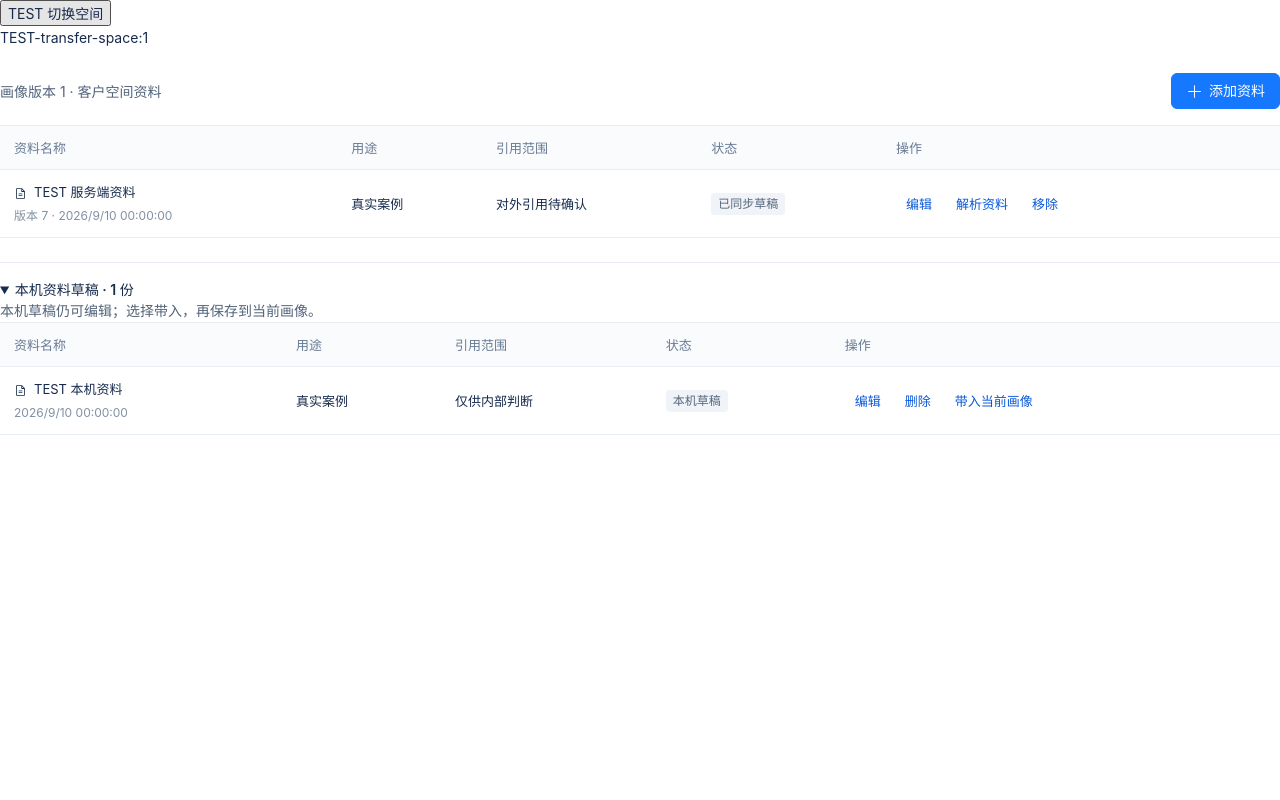
已存在的目标资料带入后取消，服务端内容和引用范围保持原样
Click the button "带入当前画像" at (994, 401), box [945, 383, 1043, 419]
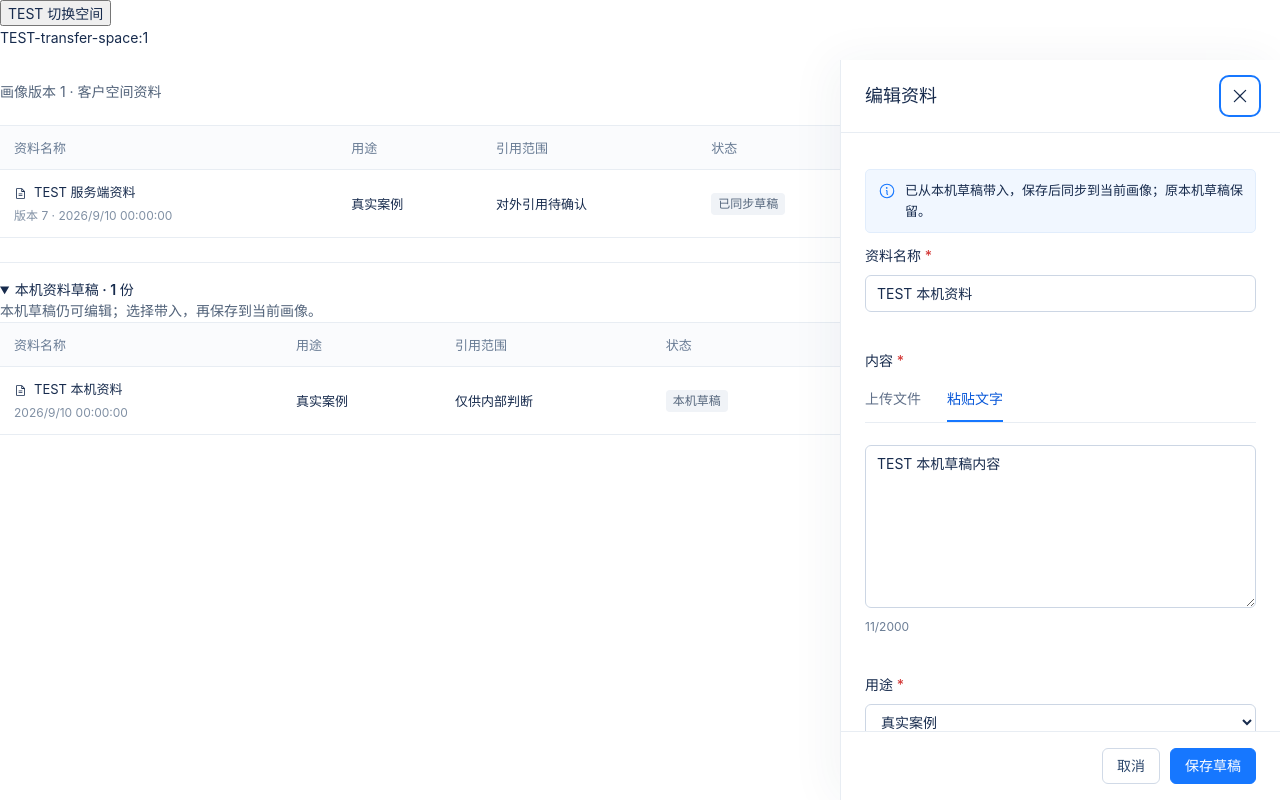
expect the text box named "资料内容" holds "TEST 本机草稿内容": met, box [865, 445, 1256, 608]
expect the text "已从本机草稿带入，保存后同步到当前画像；原本机草稿保留。" is shown: met, box [905, 180, 1243, 222]
Click the button "取消" at (1131, 766), box [1102, 748, 1160, 784]
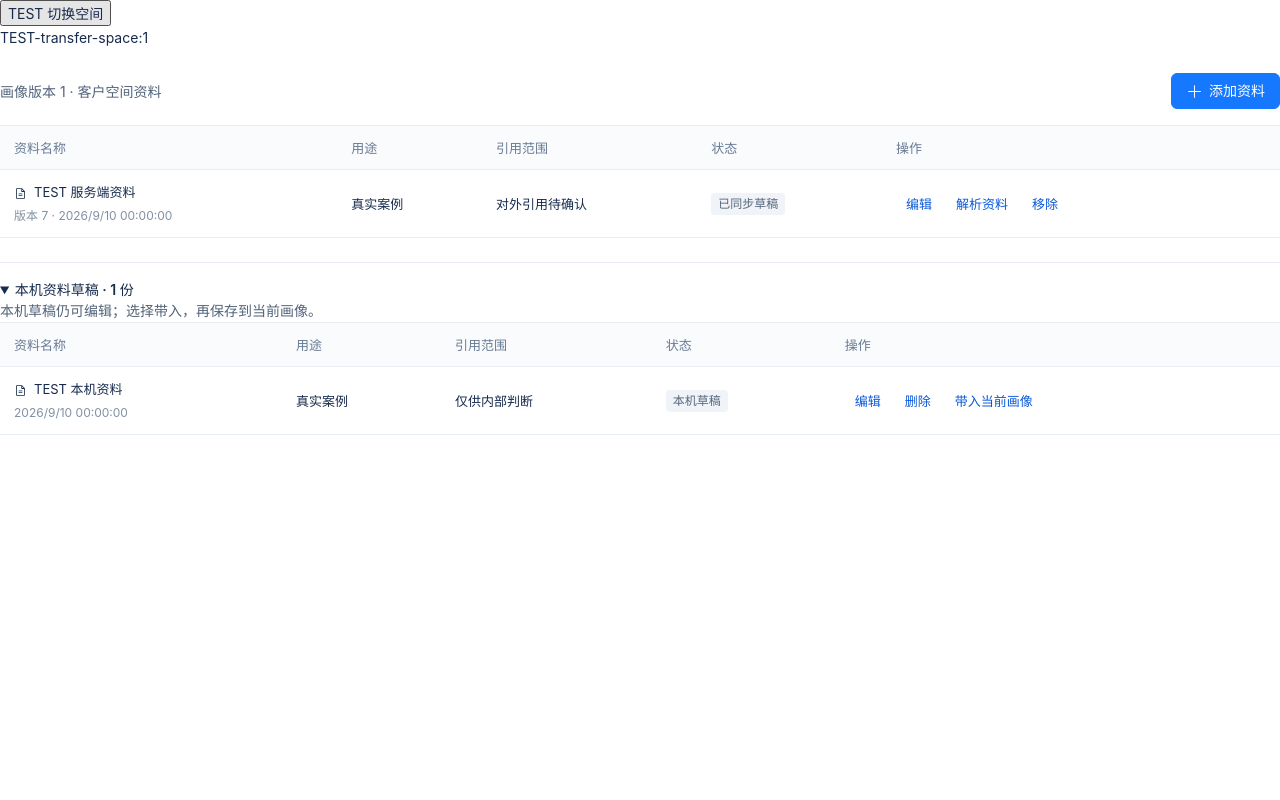
expect the dialog is gone: met
Click the button "编辑" in the row of "TEST 服务端资料" at (919, 204), box [896, 186, 942, 222]
(page scrolled)
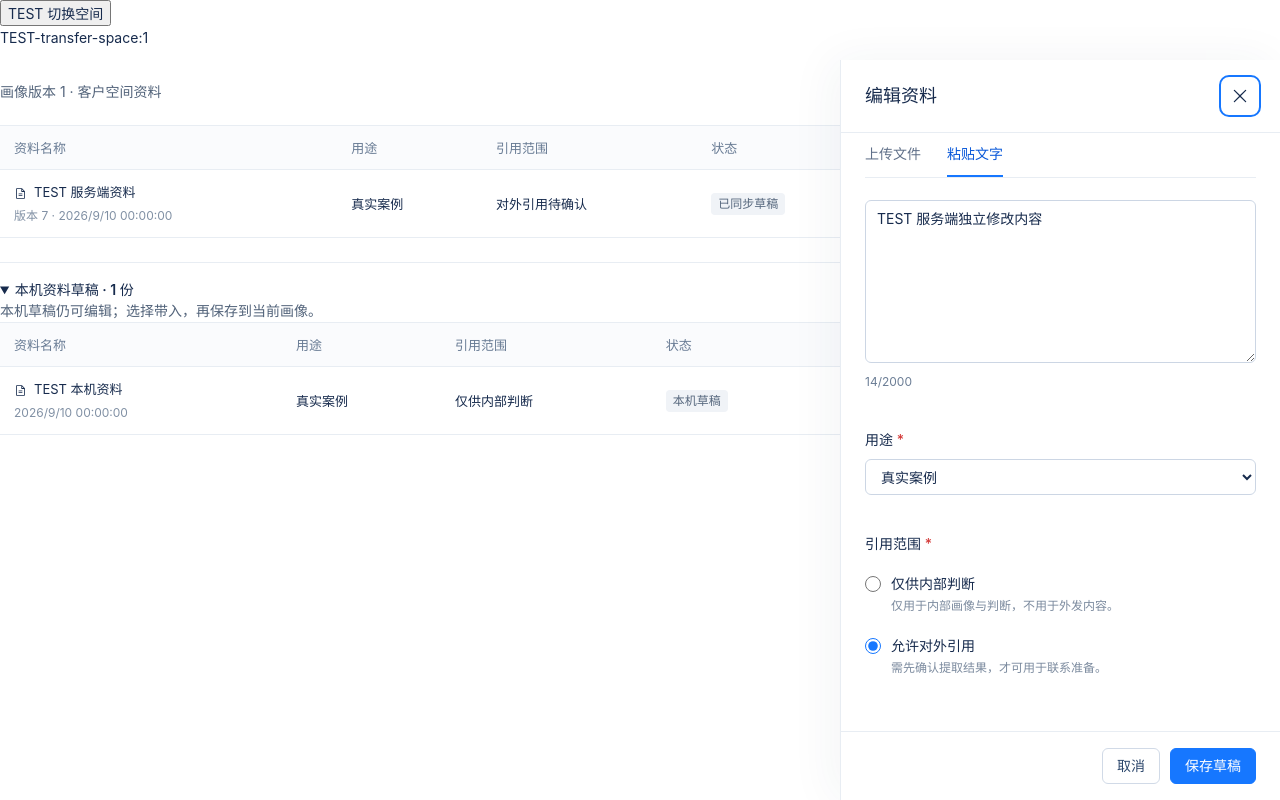
expect the text box named "资料内容" holds "TEST 服务端独立修改内容": met, box [865, 200, 1256, 363]
expect the radio button labelled "允许对外引用 需先确认提取结果，才可用于联系准备。" is checked: met, box [865, 638, 881, 654]
